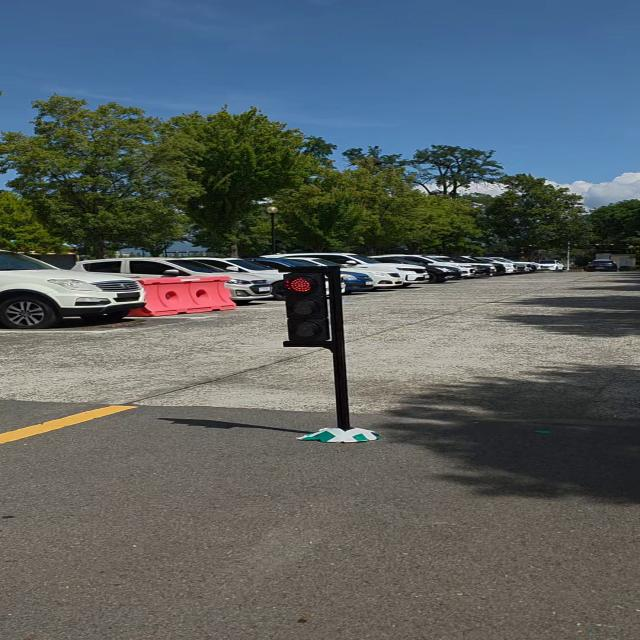red: (277, 267, 345, 348)
